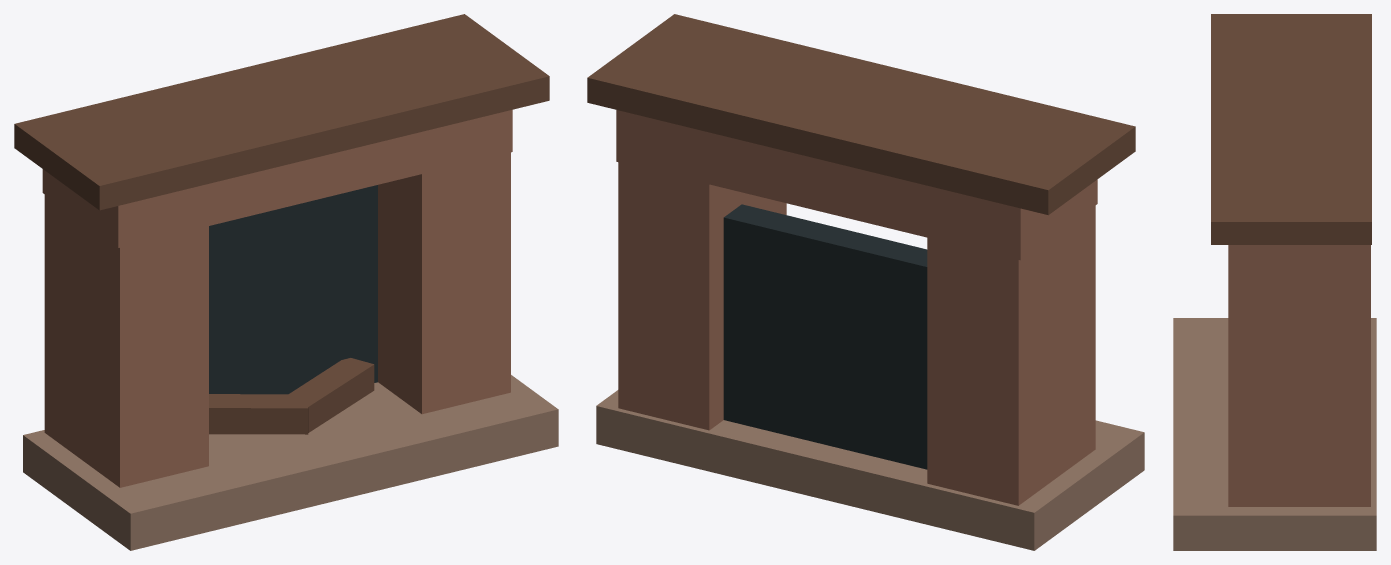
The model's file is fireplace.glb.
3 renders of one model, left to right at view 1: azimuth 30°, elevation 25°; view 2: azimuth 150°, elevation 25°; view 3: azimuth 270°, elevation 25°, orthographic. The views are drawn at different scales.
Parts seen in each view (by area): view 1: Mantel shelf, Masonry jamb, Hearth, Masonry jamb.001, Recess back, Lintel, Split log, Split log.001; view 2: Mantel shelf, Recess back, Masonry jamb, Hearth, Masonry jamb.001, Lintel; view 3: Mantel shelf, Masonry jamb.001, Hearth, Lintel.
Boxes of the visible parts, left/top/right/bottom form: Mantel shelf: left=14, top=14, right=549, bottom=210; Masonry jamb: left=44, top=195, right=208, bottom=487; Hearth: left=23, top=375, right=558, bottom=550; Masonry jamb.001: left=378, top=148, right=510, bottom=414; Recess back: left=209, top=185, right=377, bottom=394; Lintel: left=42, top=110, right=512, bottom=247; Split log: left=209, top=394, right=308, bottom=434; Split log.001: left=281, top=358, right=374, bottom=432; Mantel shelf: left=587, top=14, right=1135, bottom=215; Recess back: left=723, top=204, right=927, bottom=469; Masonry jamb: left=927, top=205, right=1095, bottom=505; Hearth: left=596, top=390, right=1144, bottom=550; Masonry jamb.001: left=618, top=157, right=786, bottom=430; Lintel: left=616, top=110, right=1097, bottom=260; Mantel shelf: left=1211, top=14, right=1371, bottom=244; Masonry jamb.001: left=1228, top=280, right=1370, bottom=506; Hearth: left=1173, top=318, right=1376, bottom=550; Lintel: left=1228, top=245, right=1370, bottom=280.
Bounding box in the file's own units: 1.62 × 1.21 × 0.67.
